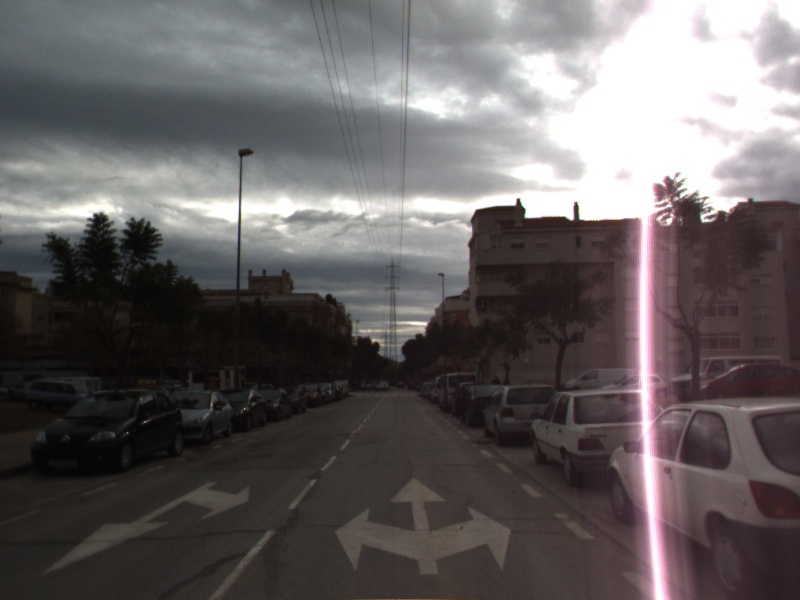STRAIGHT_LEFT_RIGHT: (332, 474, 514, 577)
